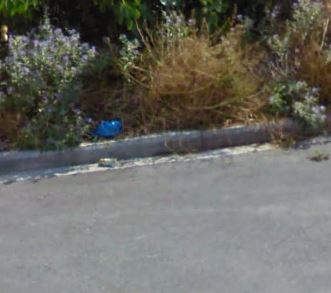trash: (89, 118, 129, 141), (93, 151, 127, 168)
